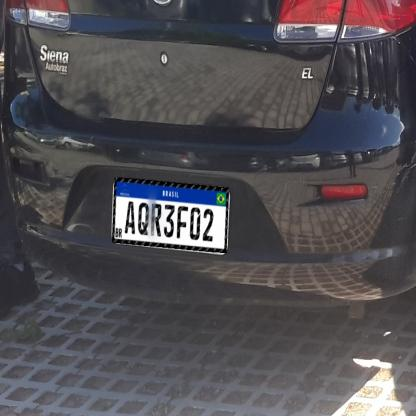PlacaM: (112, 178, 229, 253)
